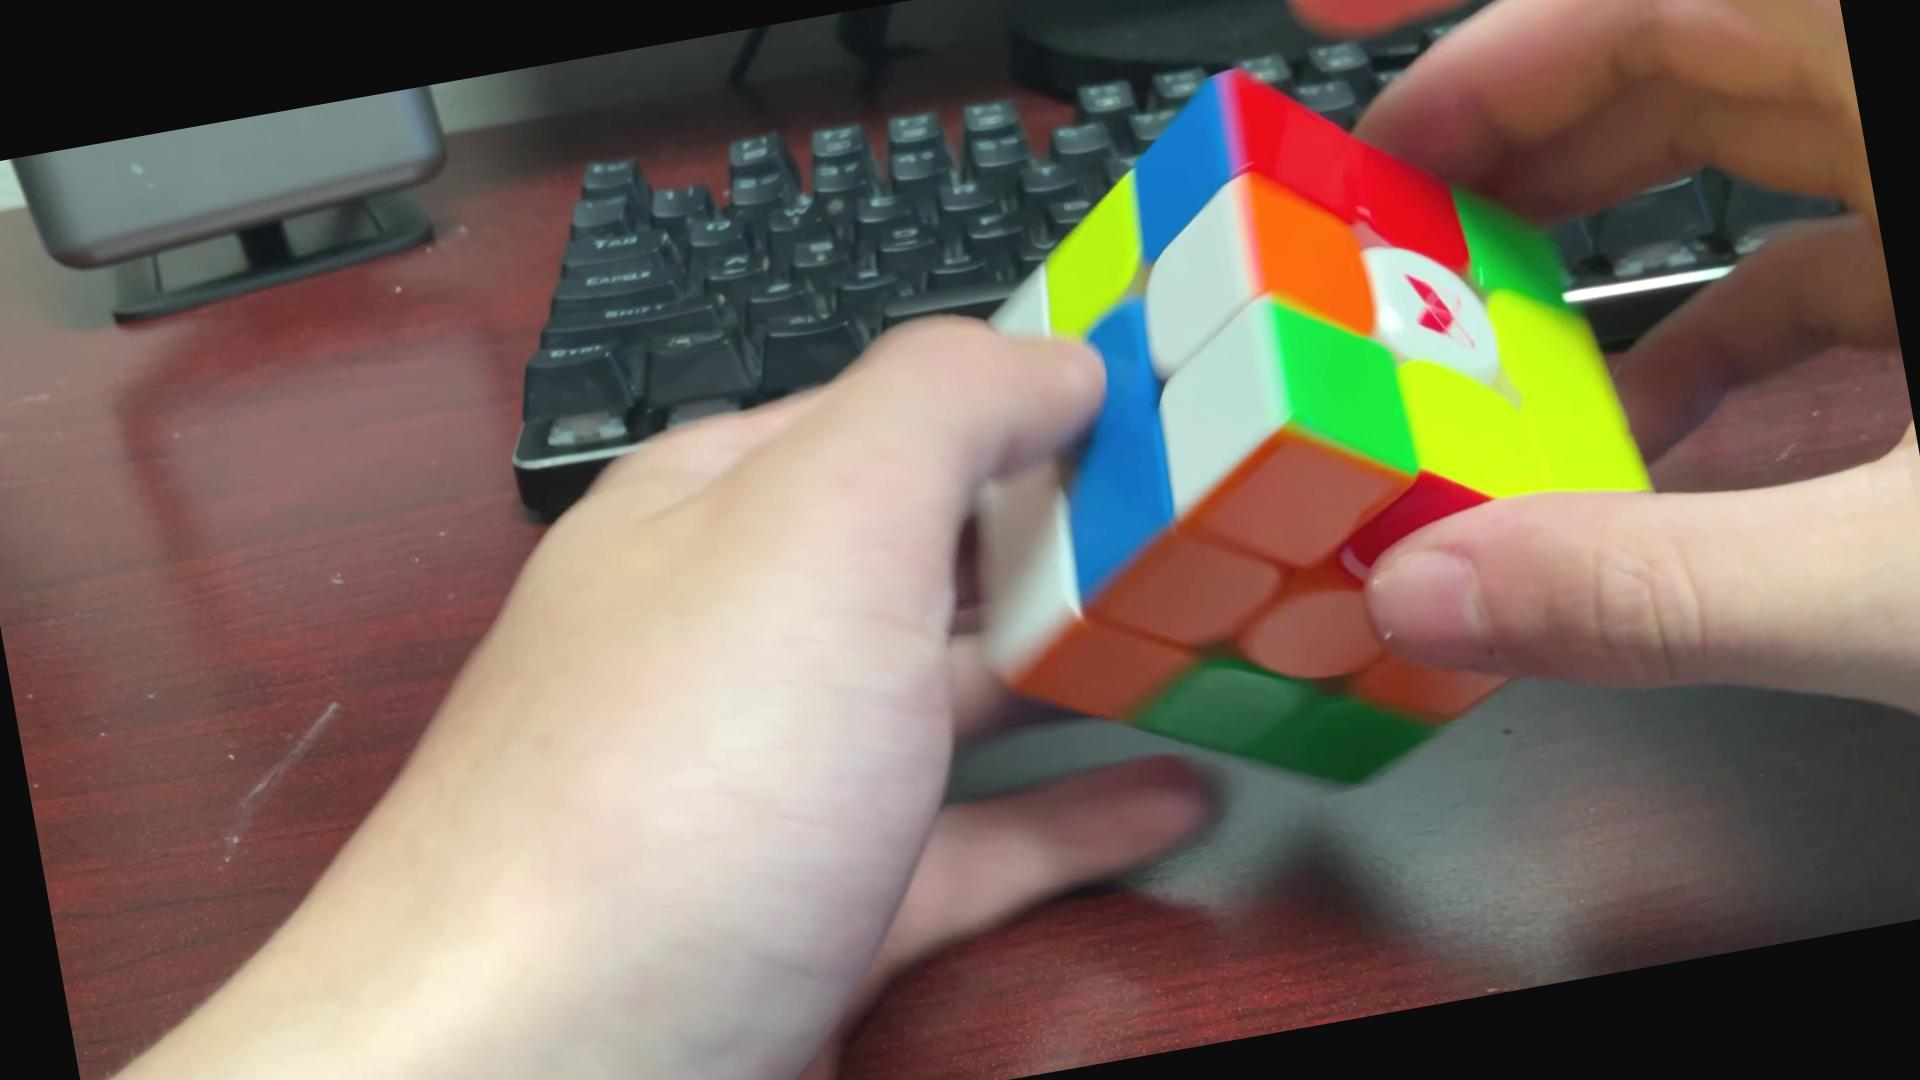Rubiks-Cube: (880, 0, 1729, 852)
